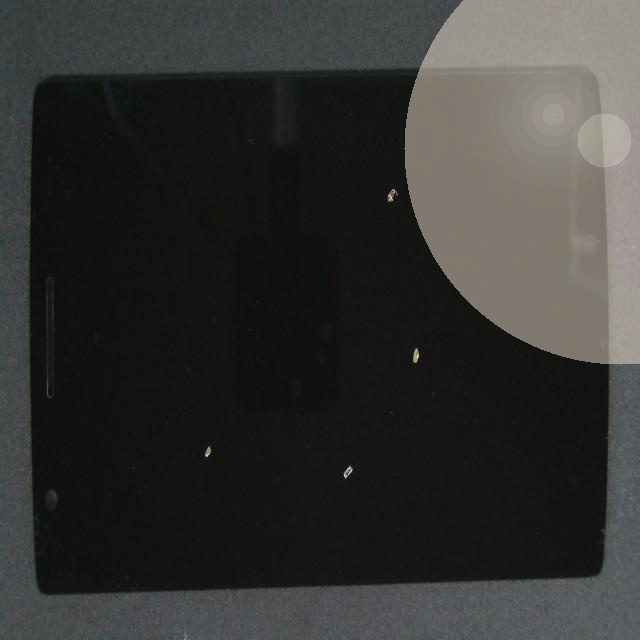stain: (208, 207, 638, 571), (182, 187, 516, 640), (133, 246, 340, 640), (207, 52, 576, 268)
